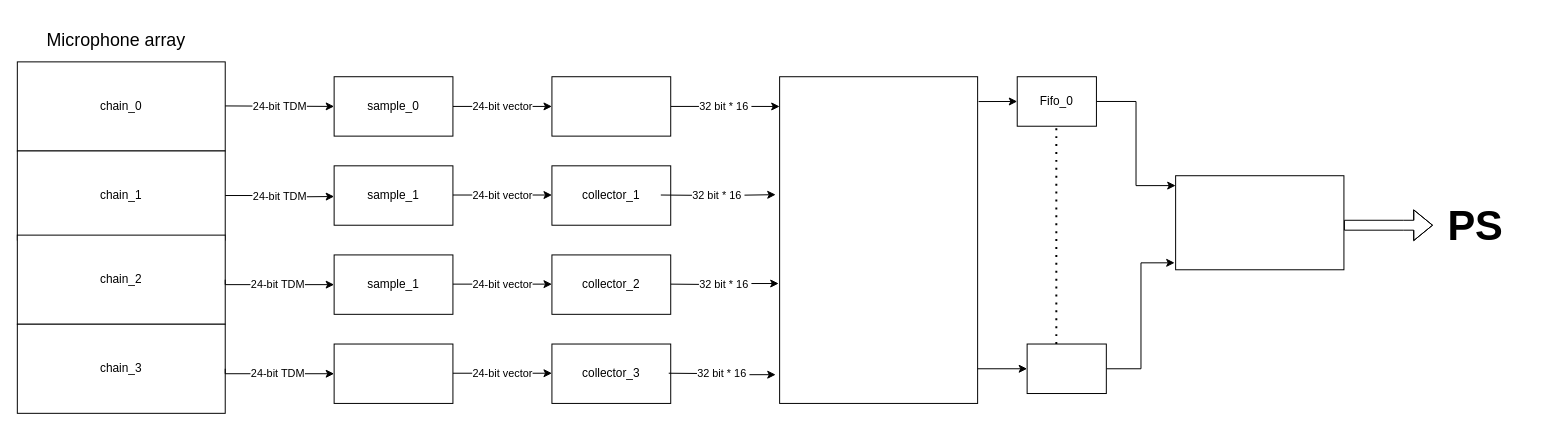
The diagram is 1559 pixels wide and 431 high, and some of its shapes have lost their labels. The shapes that lost their labels are listed below. From the top down, each one's centre as x and y in pixels, then its label:
At (x=611, y=106): "collector_0".
At (x=878, y=239): "full_sample".
At (x=1259, y=222): "axi4-Lite".
At (x=393, y=373): "sample_3".
At (x=1066, y=368): "Fifo_63".
